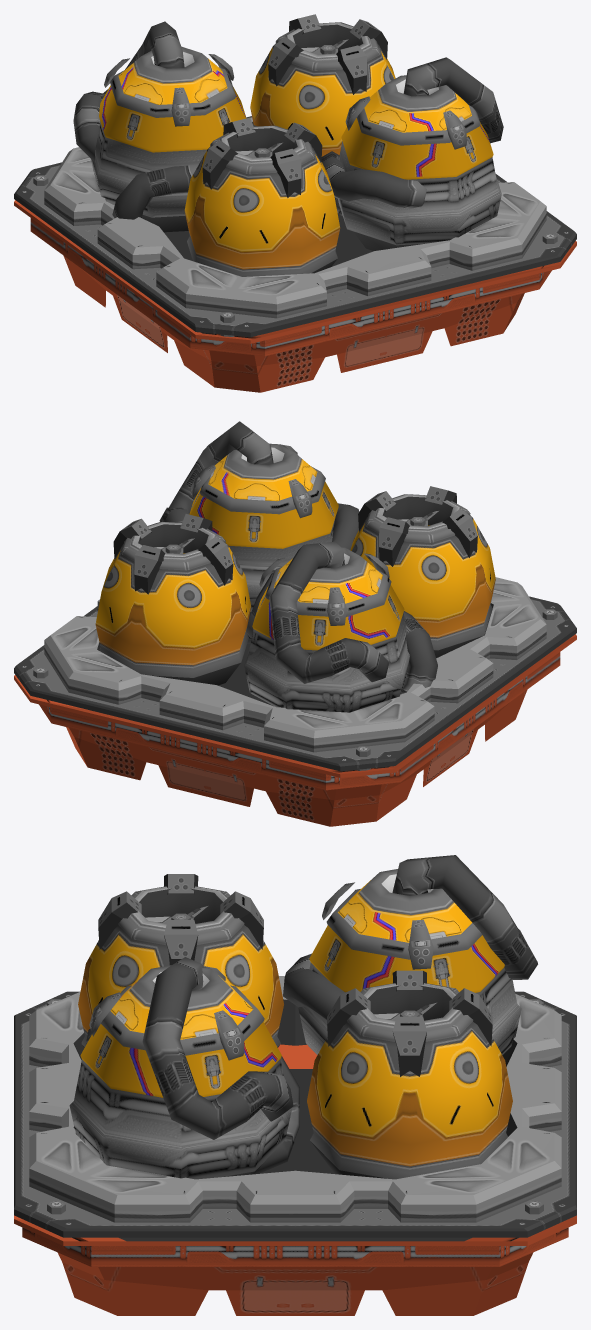
Rendered from hydro-plant-1.glb.
3 renders of one model, top to bottom at view 1: azimuth 30°, elevation 25°; view 2: azimuth 150°, elevation 25°; view 3: azimuth 270°, elevation 25°, orthographic. The views are drawn at different scales.
Parts seen in each view (by area): view 1: Sphere.001; view 2: Sphere.001; view 3: Sphere.001.
Boxes of the visible parts, box(x1,y1,x2,y2) form: Sphere.001: box(14, 14, 576, 392); Sphere.001: box(14, 421, 576, 826); Sphere.001: box(14, 855, 576, 1315).
Bounding box in the file's own units: 44.31 × 27.85 × 44.31.
1 material, 1 textured.
